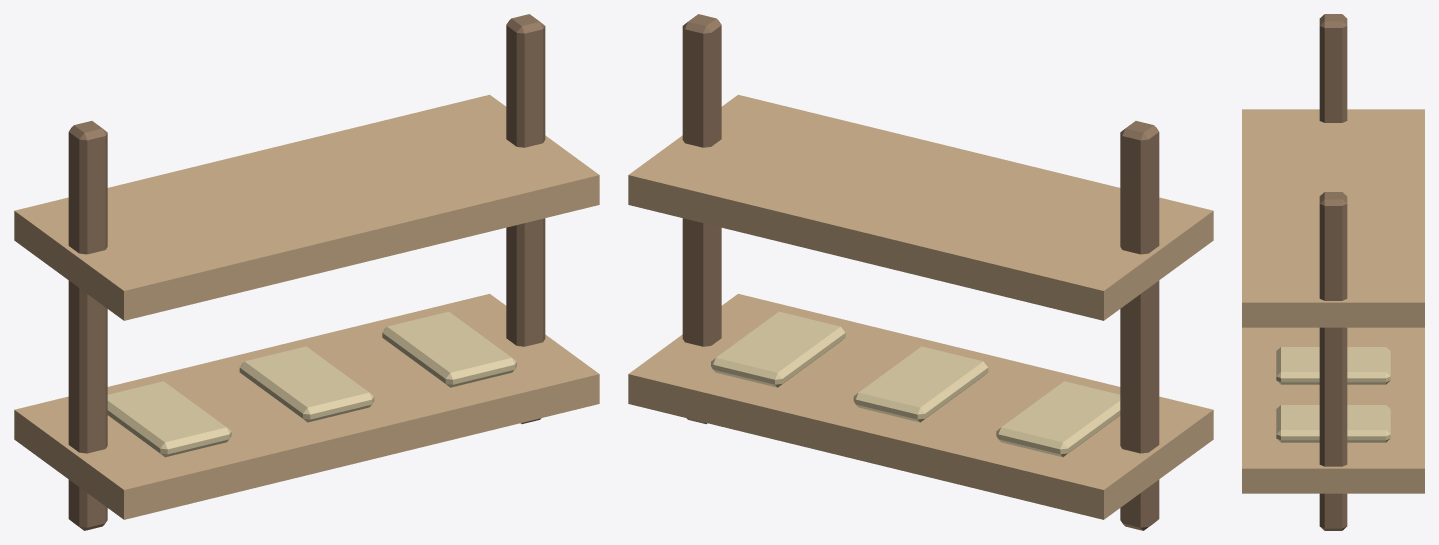
Rendered from feudal-japan-castle-town-sandals-rack-3bdcc46b__26448.glb.
The picture shows the model from 3 angles, left to right: view 1: azimuth 30°, elevation 25°; view 2: azimuth 150°, elevation 25°; view 3: azimuth 270°, elevation 25°; orthographic projection. The views are drawn at different scales.
Visible parts, largest first — view 1: sandals-rack; view 2: sandals-rack; view 3: sandals-rack.
Part boxes in pixels (x1=…): sandals-rack: x1=14, y1=14, x2=599, y2=530; sandals-rack: x1=628, y1=14, x2=1213, y2=530; sandals-rack: x1=1242, y1=14, x2=1424, y2=530.
Bounding box in the file's own units: 1 × 0.8001 × 0.3999.
